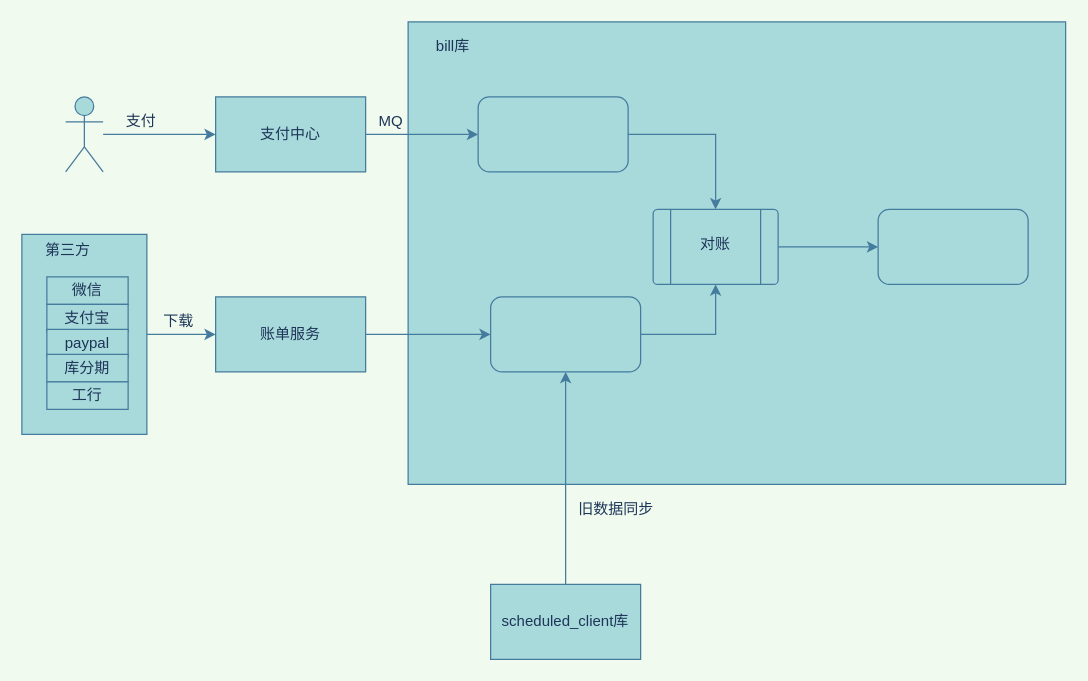
Image size: 1088x681. Some labels were removed from this diagram. The shapes that lost their labels are listed below. From the top down, each one's centre as x and y in pixels, then its label:
(83,134): Actor
(552,134): bill
(952,246): pay_reconciliation
(565,334): bill_third
